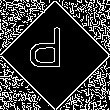P_S: (37, 30, 73, 80)
